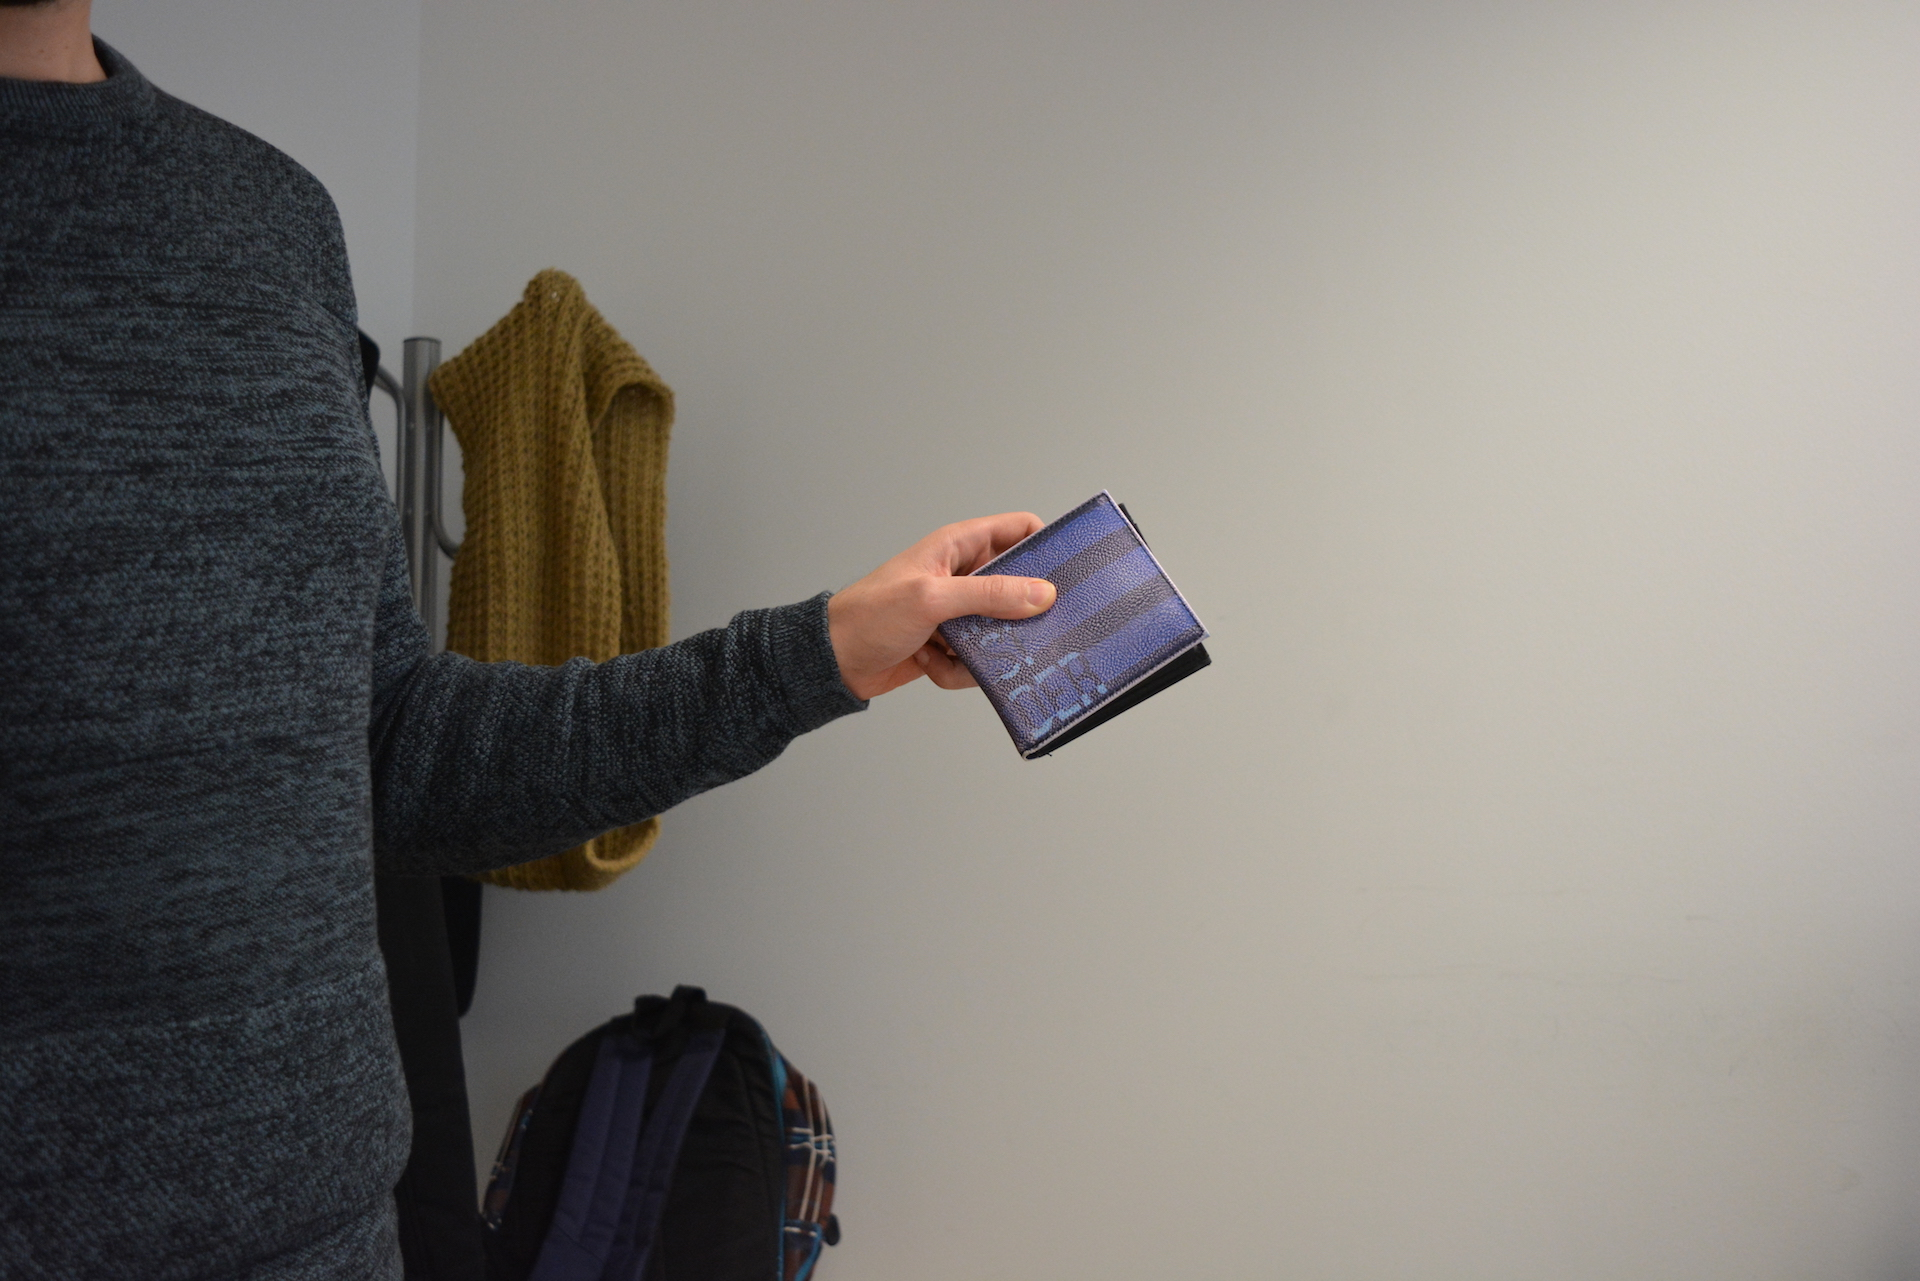monedero: (934, 486, 1215, 763)
